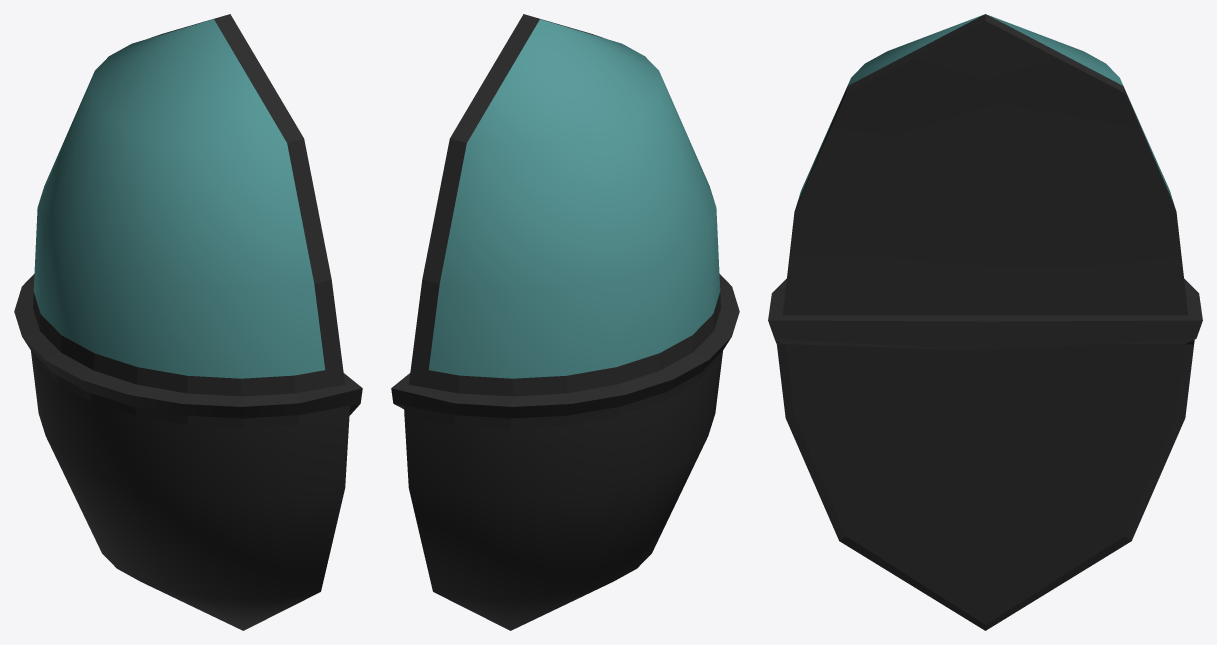
File: Small Light.FBX
The picture shows the model from 3 angles, left to right: view 1: azimuth 30°, elevation 25°; view 2: azimuth 150°, elevation 25°; view 3: azimuth 270°, elevation 25°; orthographic projection. The views are drawn at different scales.
Visible parts, largest first — view 1: Small Light; view 2: Small Light; view 3: Small Light.
Boxes of the visible parts, left/top/right/bottom form: Small Light: left=14, top=14, right=362, bottom=630; Small Light: left=391, top=14, right=739, bottom=630; Small Light: left=768, top=14, right=1202, bottom=630.
Bounding box in the file's own units: 0.2611 × 0.7188 × 0.469.
